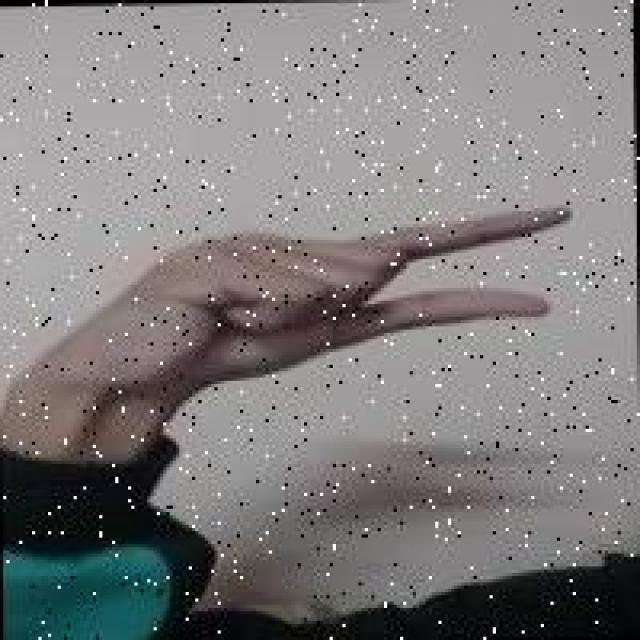G: (75, 200, 584, 430)
